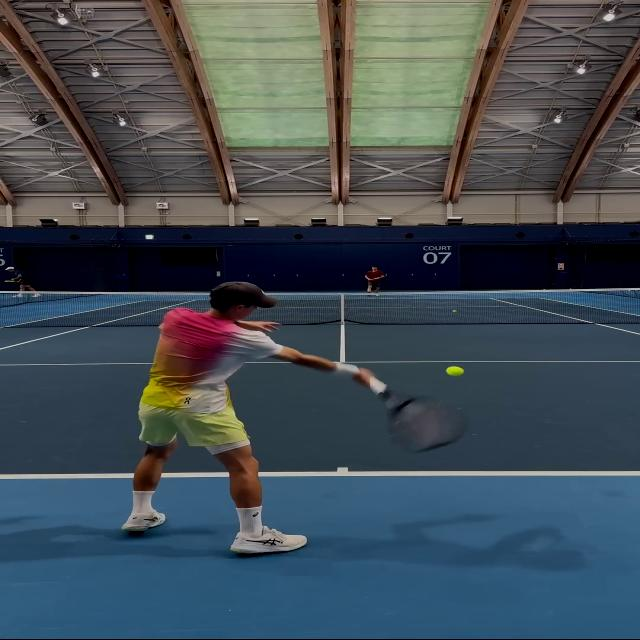tennis_ball: (449, 368, 461, 374)
